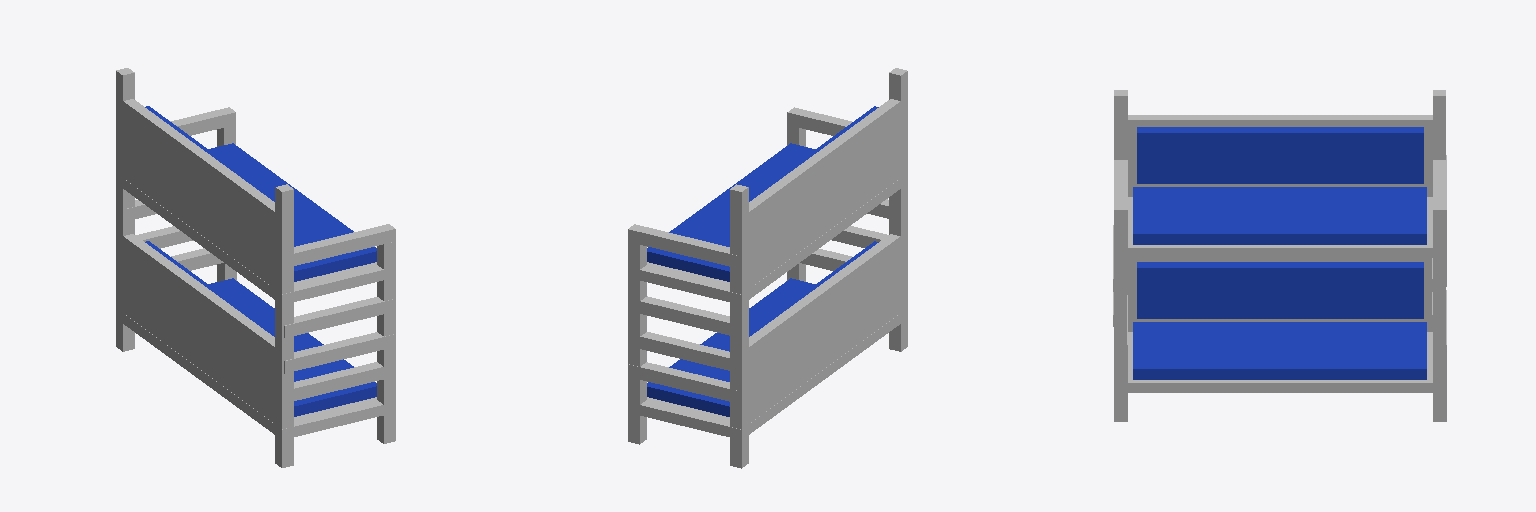
The model's file is couch.obj.
The picture shows the model from 3 angles: view 1: azimuth 30°, elevation 25°; view 2: azimuth 150°, elevation 25°; view 3: azimuth 270°, elevation 25°; orthographic projection.
Visible parts, largest first — view 1: ExtraCube2.003; view 2: ExtraCube2.003; view 3: ExtraCube2.003.
Boxes of the visible parts, x1,y1,x2,y2 form: ExtraCube2.003: [116, 68, 395, 467]; ExtraCube2.003: [628, 68, 907, 468]; ExtraCube2.003: [1113, 90, 1446, 421].
Bounding box in the file's own units: 2.77 × 6.44 × 7.03.